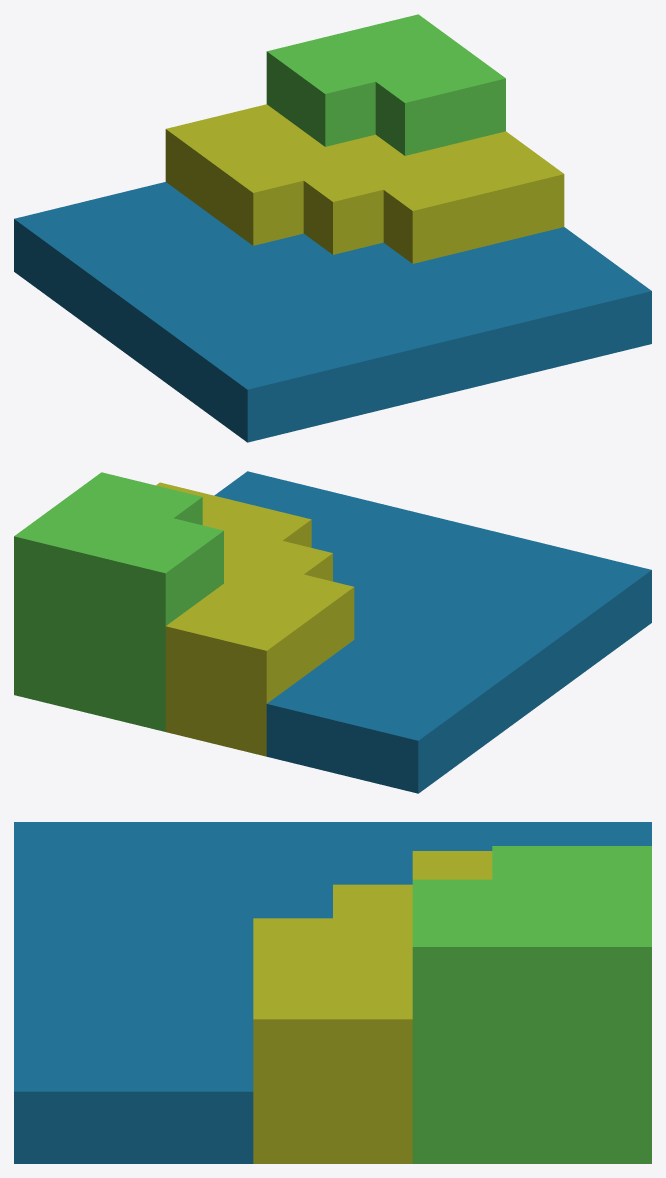
File: beach_corner_90.obj
3 views of the same model, one above another, from view 1: azimuth 30°, elevation 25°; view 2: azimuth 150°, elevation 25°; view 3: azimuth 270°, elevation 25° (orthographic). The views are drawn at different scales.
Bounding box in the file's own units: 0.8 × 0.3 × 0.8.
1 material, 1 textured.
